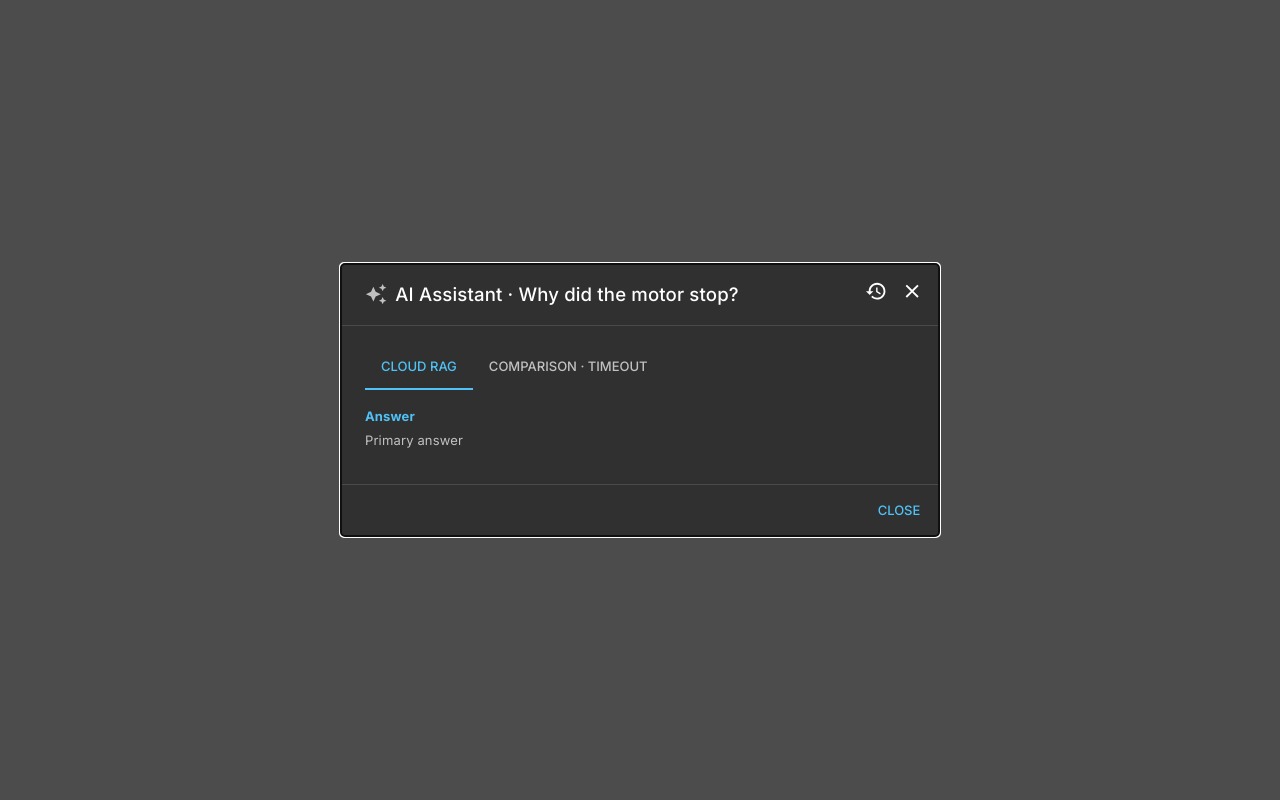
Test: SearchAiDialog comparison tabs › shows the sanitized comparison error in its tab and content
Click the tab "Comparison · timeout" at (568, 366), box [473,342,664,390]
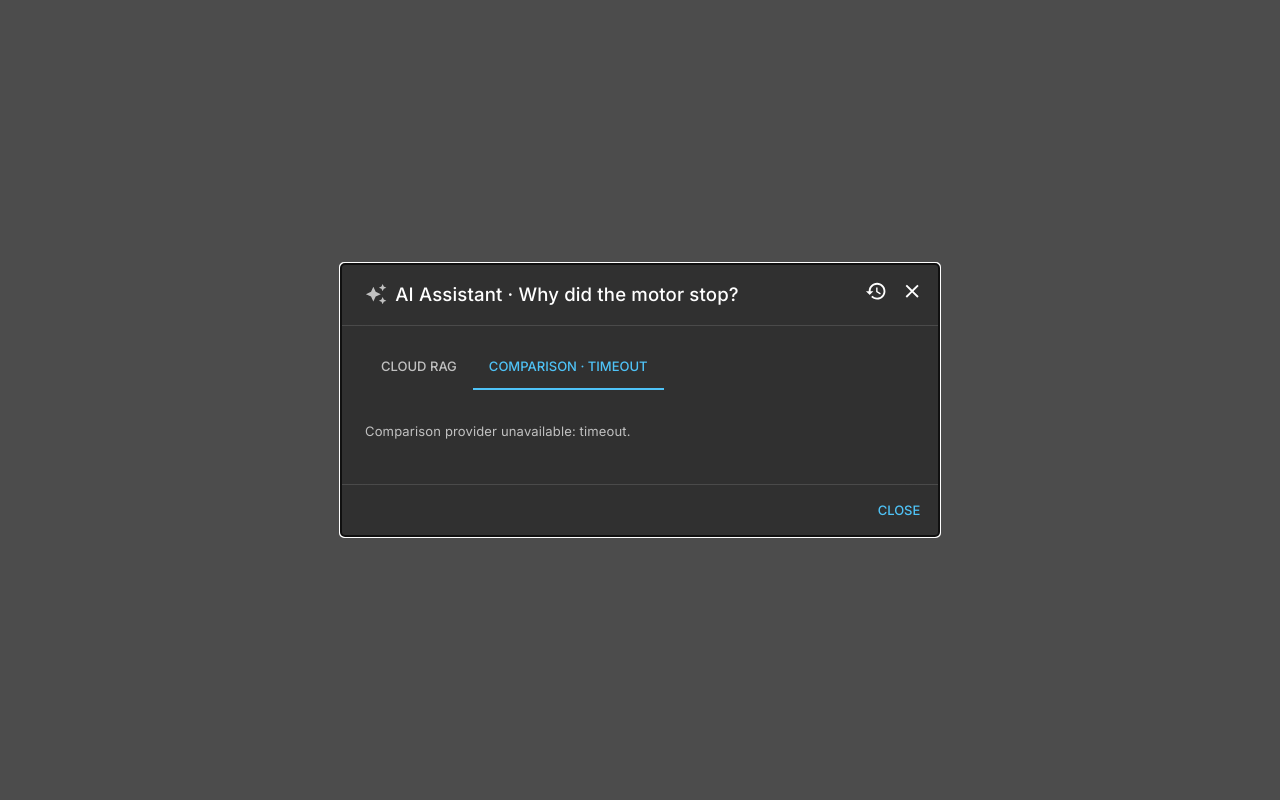
Now the text "Comparison provider unavailable: timeout." is shown, box [365,424,631,440]
